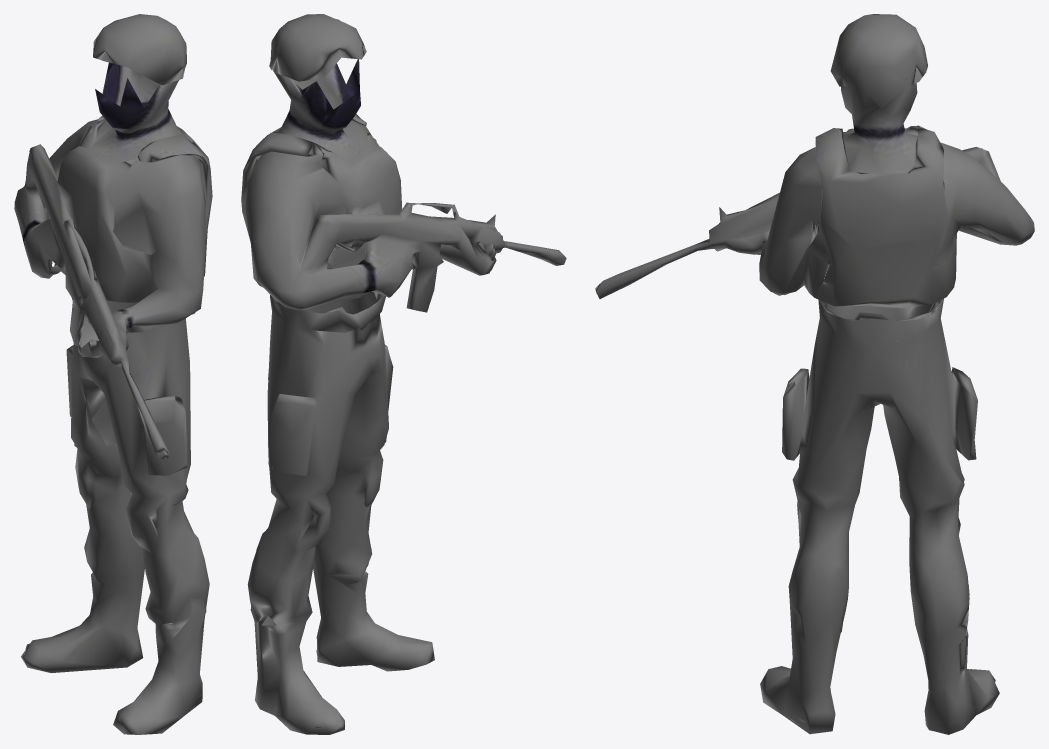
File: operator-rifle.glb
3 renders of one model, left to right at view 1: azimuth 30°, elevation 25°; view 2: azimuth 150°, elevation 25°; view 3: azimuth 270°, elevation 25°, orthographic. The views are drawn at different scales.
Visible parts, largest first — view 1: geometry_0; view 2: geometry_0; view 3: geometry_0.
Boxes of the visible parts, x1,y1,x2,y2 form: geometry_0: (14,14,212,734); geometry_0: (241,14,566,734); geometry_0: (595,14,1034,734).
Bounding box in the file's own units: 49.04 × 180 × 103.
1 material, 1 textured.
